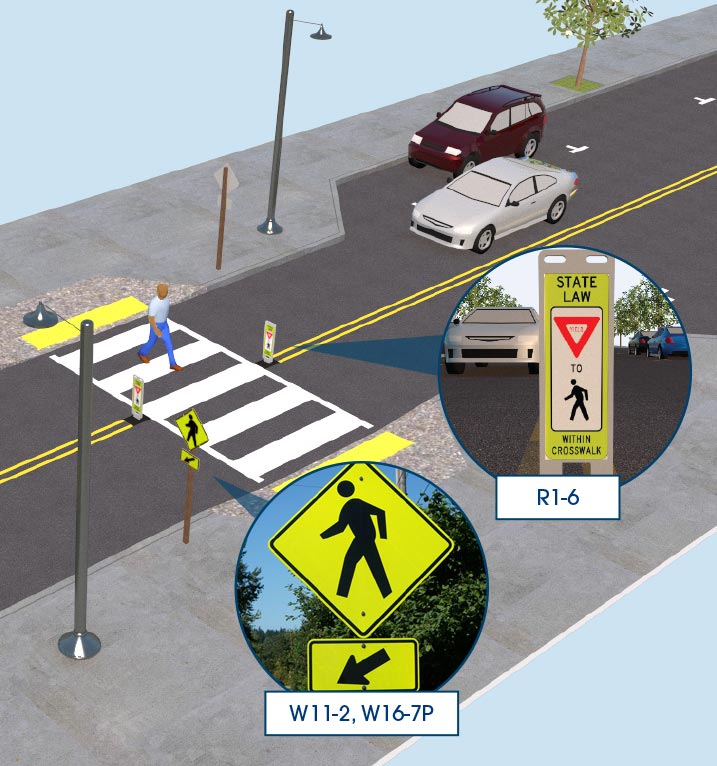Crosswalk: (122, 367, 365, 461)
